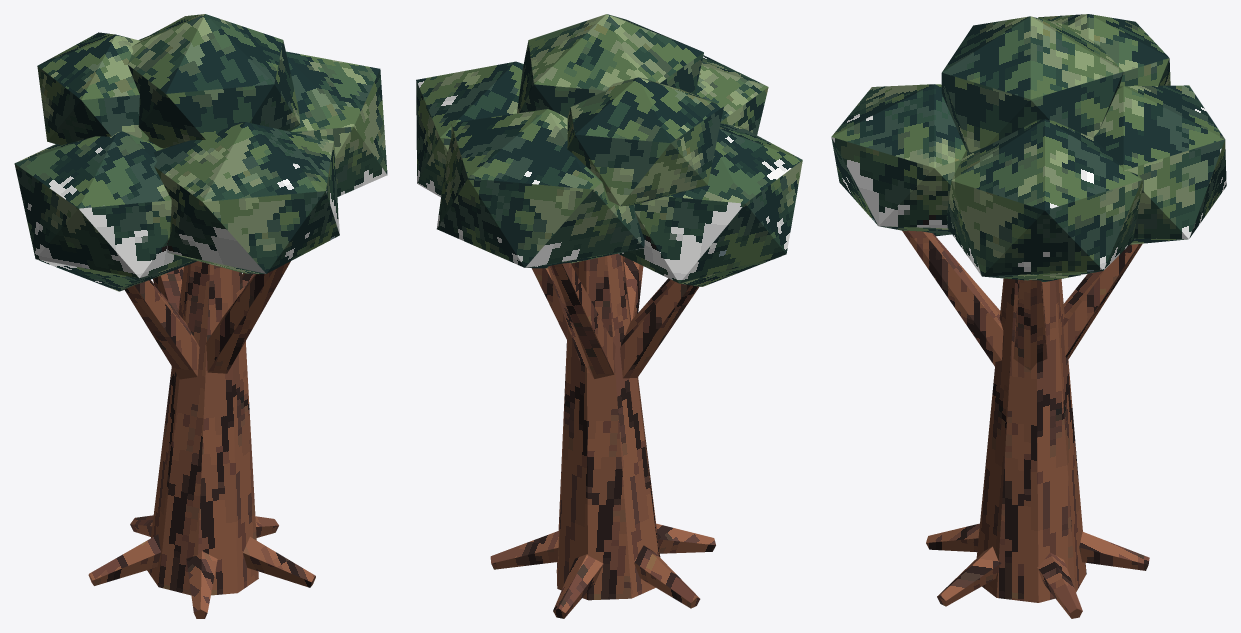
The model's file is arvore_jovem.glb.
The picture shows the model from 3 angles, left to right: view 1: azimuth 30°, elevation 25°; view 2: azimuth 150°, elevation 25°; view 3: azimuth 270°, elevation 25°; orthographic projection.
Visible parts, largest first — view 1: bosque_arvore_jovem; view 2: bosque_arvore_jovem; view 3: bosque_arvore_jovem.
Part boxes in pixels (x1,y1,x2,y2): bosque_arvore_jovem: (14, 14, 387, 618); bosque_arvore_jovem: (416, 14, 802, 618); bosque_arvore_jovem: (831, 14, 1226, 618).
Size of the model in its own units: 1.02 by 1.54 by 0.9772.
Materials: 2 (2 with a texture image).
